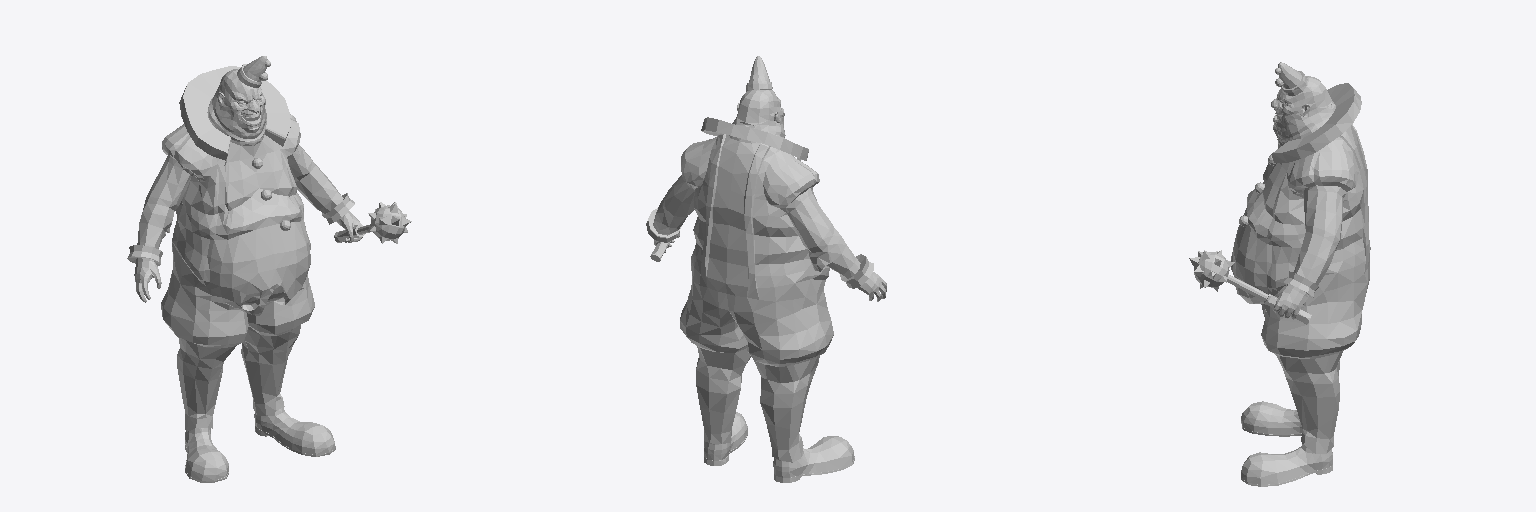
Rendered from Bloat_Summer.obj.
The picture shows the model from 3 angles: view 1: azimuth 30°, elevation 25°; view 2: azimuth 150°, elevation 25°; view 3: azimuth 270°, elevation 25°; orthographic projection.
Visible parts, largest first — view 1: T_Bloat_Summer_Diffuse.png; view 2: T_Bloat_Summer_Diffuse.png; view 3: T_Bloat_Summer_Diffuse.png.
Boxes of the visible parts, <box> form: T_Bloat_Summer_Diffuse.png: <box>127,56,411,482</box>; T_Bloat_Summer_Diffuse.png: <box>646,56,886,482</box>; T_Bloat_Summer_Diffuse.png: <box>1189,62,1370,486</box>.
Size of the model in its own units: 83.66 by 134 by 55.6.